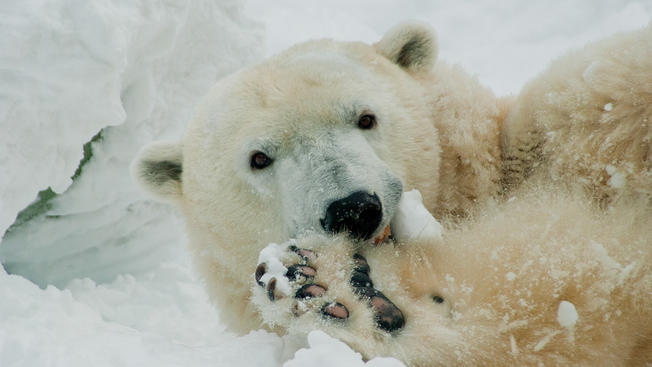Polar Bear: (133, 16, 468, 353)
